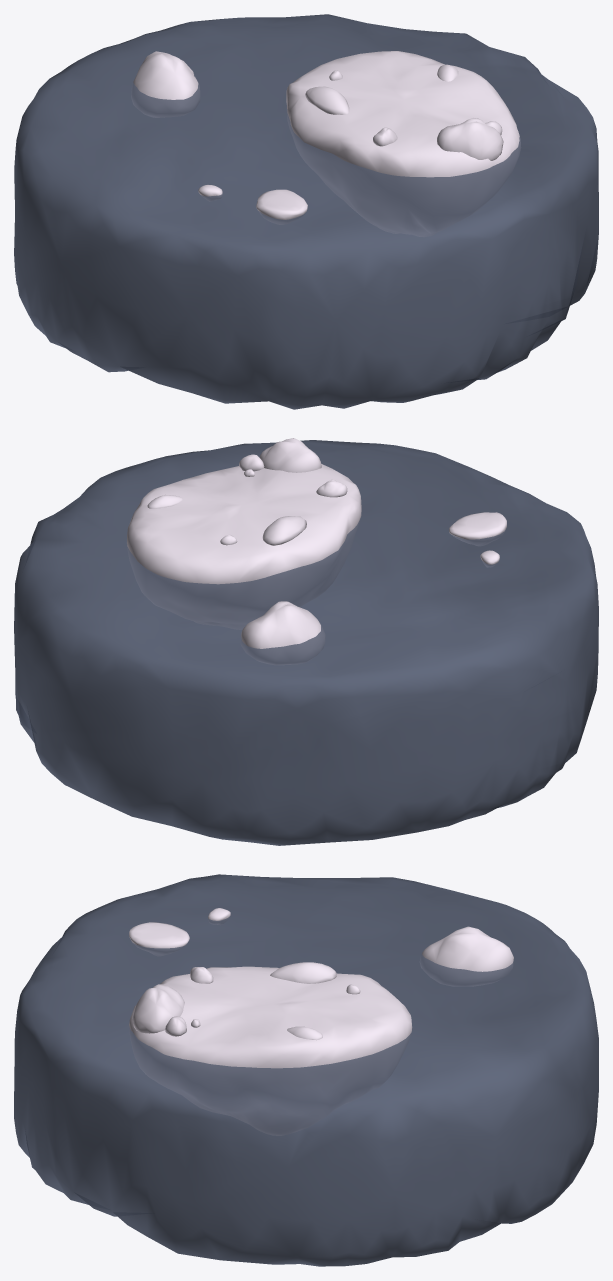
File: iceberg.gltf
3 views of the same model, one above another, from view 1: azimuth 30°, elevation 25°; view 2: azimuth 150°, elevation 25°; view 3: azimuth 270°, elevation 25° (orthographic).
Parts seen in each view (by area): view 1: Object_2, Object_17, Object_17.006, Object_17.002; view 2: Object_2, Object_17, Object_17.006, Object_17.002; view 3: Object_2, Object_17, Object_17.006, Object_17.002.
Part boxes in pixels (x1=…): Object_2: x1=14, y1=14, x2=598, y2=409; Object_17: x1=286, y1=51, x2=520, y2=236; Object_17.006: x1=131, y1=51, x2=199, y2=117; Object_17.002: x1=256, y1=189, x2=307, y2=224; Object_2: x1=14, y1=440, x2=598, y2=845; Object_17: x1=127, y1=438, x2=361, y2=629; Object_17.006: x1=241, y1=601, x2=324, y2=664; Object_17.002: x1=449, y1=512, x2=506, y2=545; Object_2: x1=14, y1=874, x2=598, y2=1266; Object_17: x1=129, y1=962, x2=412, y2=1135; Object_17.006: x1=420, y1=926, x2=513, y2=985; Object_17.002: x1=129, y1=922, x2=189, y2=955.
Size of the model in its own units: 37.58 by 15.12 by 37.79.
